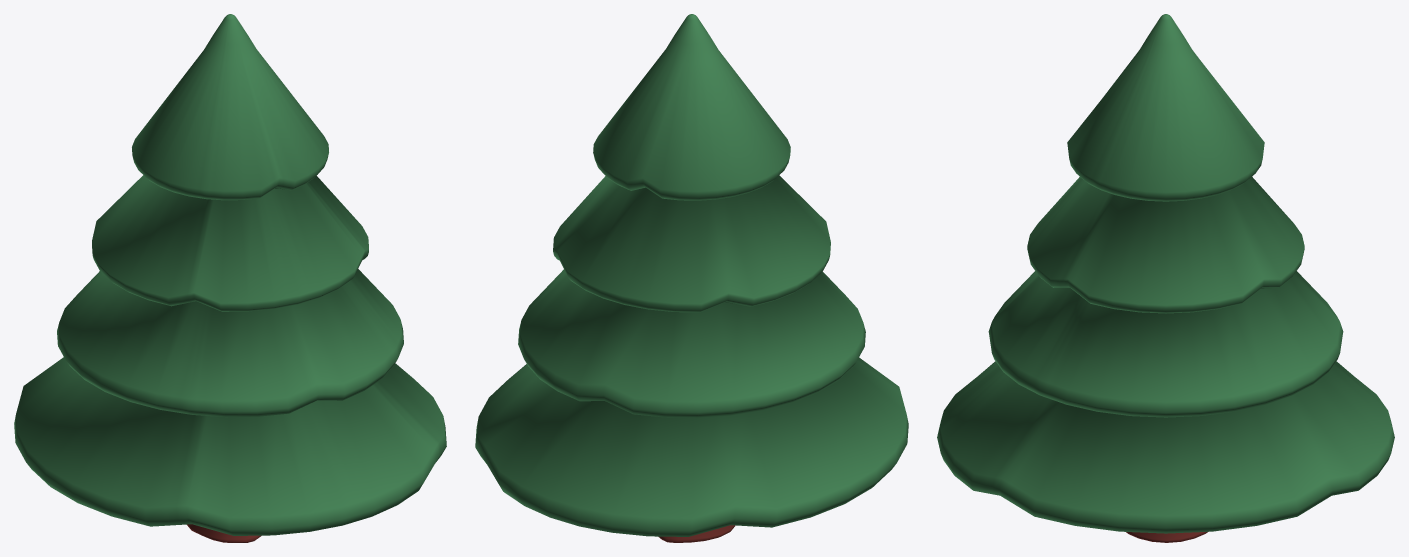
The model's file is Pino.fbx.
The picture shows the model from 3 angles, left to right: view 1: azimuth 30°, elevation 25°; view 2: azimuth 150°, elevation 25°; view 3: azimuth 270°, elevation 25°; orthographic projection.
Visible parts, largest first — view 1: Pino; view 2: Pino; view 3: Pino.
Boxes of the visible parts, bbox=[...] form: Pino: bbox=[14, 14, 446, 542]; Pino: bbox=[475, 14, 908, 542]; Pino: bbox=[937, 14, 1394, 542].
Bounding box in the file's own units: 506 × 664 × 539.
